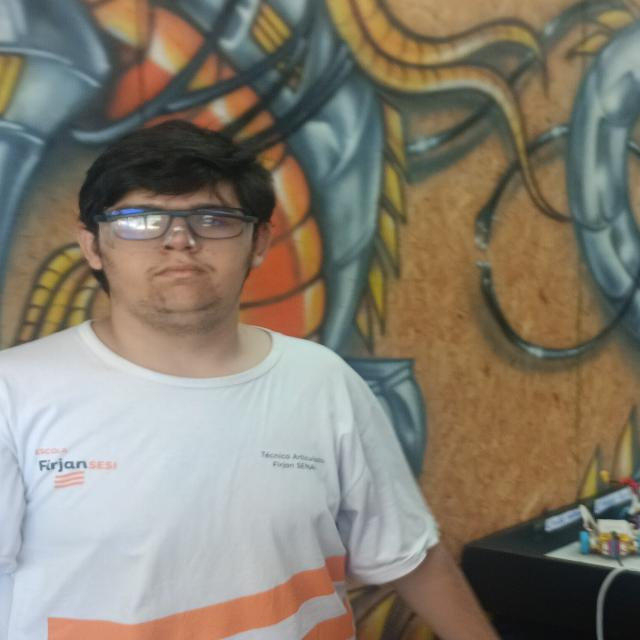oculos-epi: (96, 210, 257, 251)
